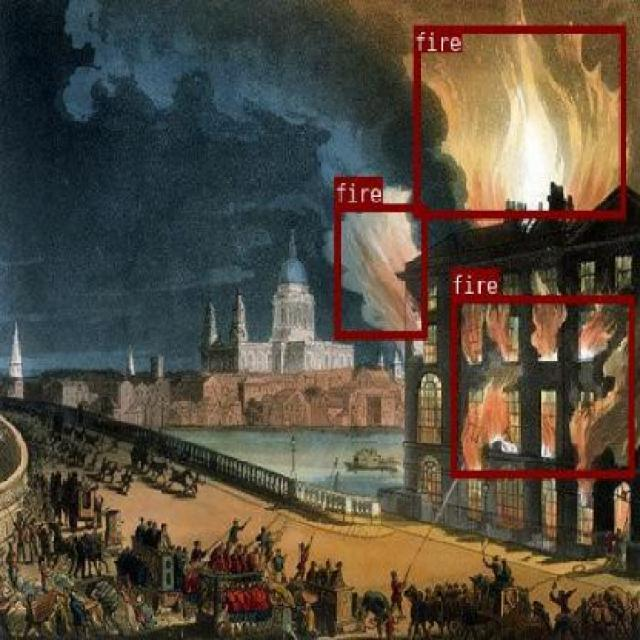Fire: (412, 24, 625, 218), (450, 294, 633, 476), (332, 202, 426, 336)
